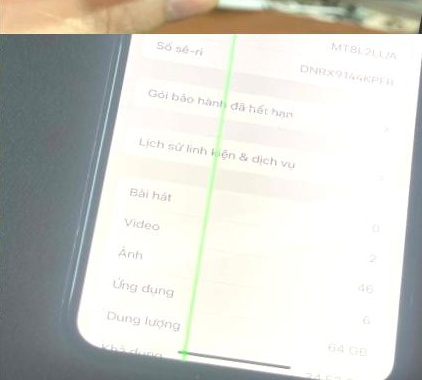screen_defect: (163, 34, 277, 361)
